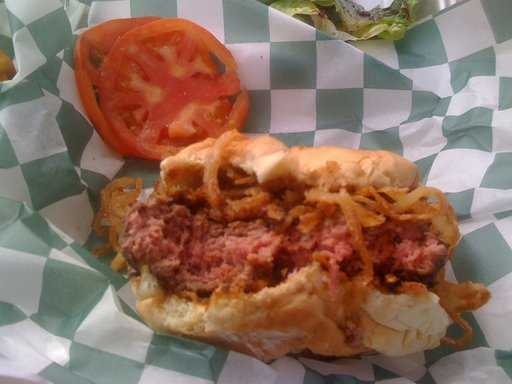hamburger: (71, 139, 484, 331)
